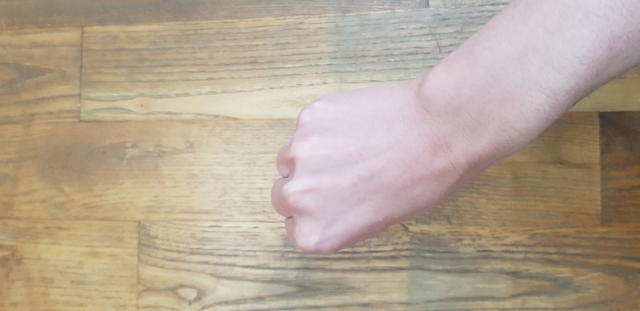Rock: (249, 83, 477, 272)
